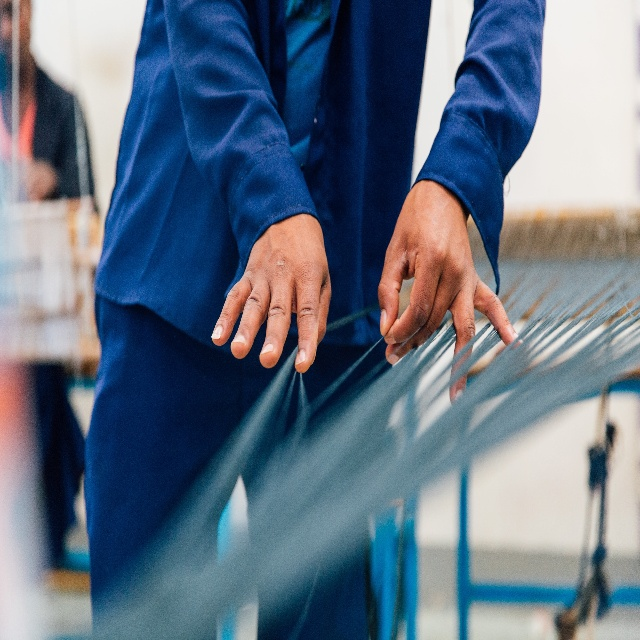Sin_guantes: (377, 181, 523, 406), (210, 213, 332, 374)
